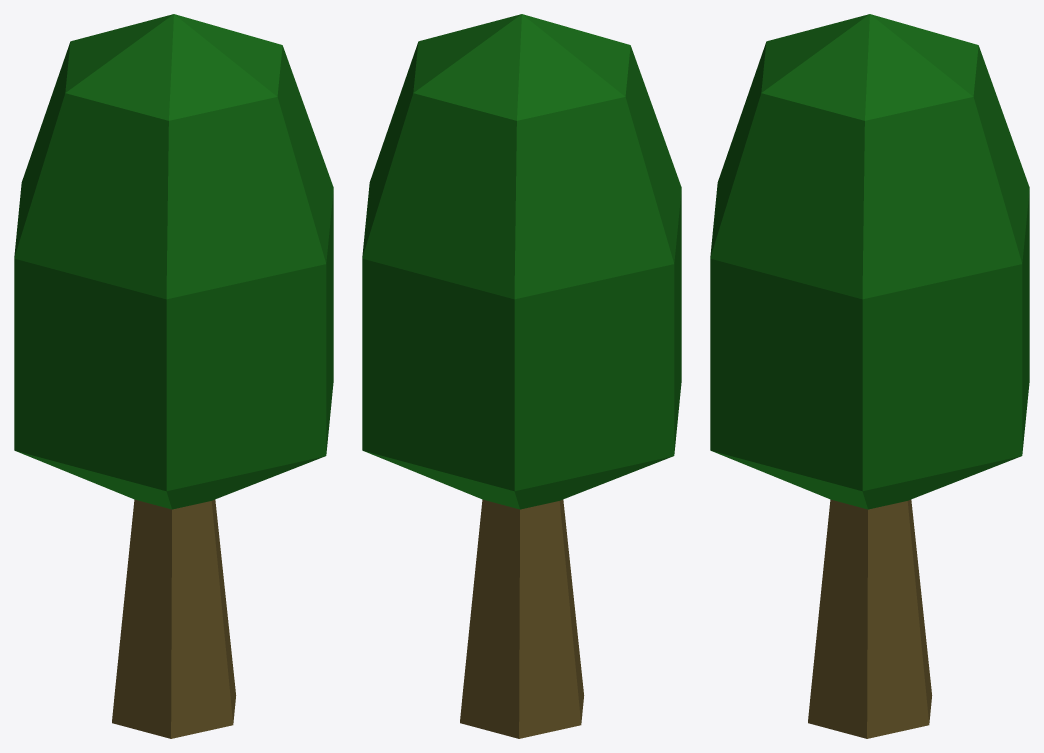
Rendered from Tree_Generic_Summer_02.fbx.
3 views of the same model, side by side, from view 1: azimuth 30°, elevation 25°; view 2: azimuth 150°, elevation 25°; view 3: azimuth 270°, elevation 25° (orthographic).
Visible parts, largest first — view 1: Model; view 2: Model; view 3: Model.
Part boxes in pixels (bbox=[...]): Model: bbox=[14, 14, 333, 738]; Model: bbox=[362, 14, 681, 738]; Model: bbox=[710, 14, 1029, 738].
Size of the model in its own units: 441 by 938 by 391.
